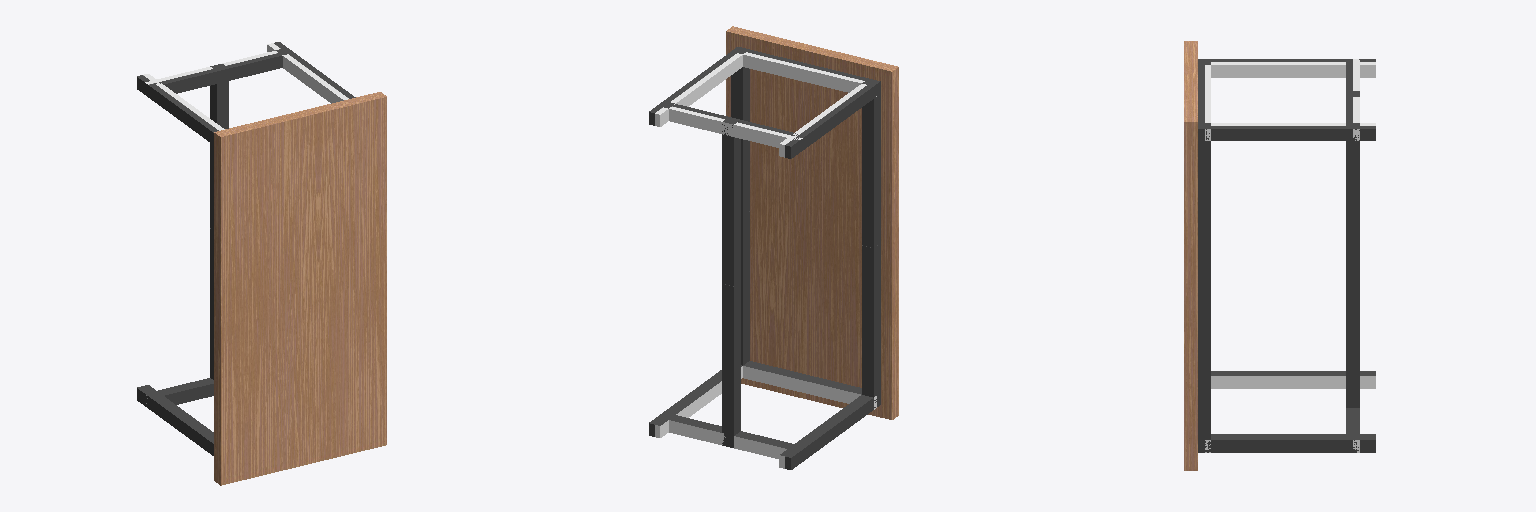
3 renders of one model, left to right at view 1: azimuth 30°, elevation 25°; view 2: azimuth 150°, elevation 25°; view 3: azimuth 270°, elevation 25°, orthographic.
Visible parts, largest first — view 1: Cube.001, Cube.004, Cube.002, Cube.006, Cube.008; view 2: Cube.001, Cube.003, Cube.004, Cube.006, Cube.002, Cube.008, Cube.007; view 3: Cube.001, Cube.004, Cube.003, Cube.007, Cube.002, Cube.008, Cube.006.
Part boxes in pixels (bbox=[...]): Cube.001: bbox=[214, 92, 386, 485]; Cube.004: bbox=[145, 48, 293, 409]; Cube.002: bbox=[137, 74, 224, 144]; Cube.006: bbox=[137, 385, 213, 455]; Cube.008: bbox=[267, 42, 355, 103]; Cube.001: bbox=[726, 26, 898, 419]; Cube.003: bbox=[731, 47, 880, 409]; Cube.004: bbox=[657, 101, 805, 458]; Cube.006: bbox=[779, 395, 880, 469]; Cube.002: bbox=[779, 81, 880, 158]; Cube.008: bbox=[649, 52, 742, 126]; Cube.007: bbox=[649, 365, 742, 437]; Cube.001: bbox=[1184, 41, 1197, 470]; Cube.004: bbox=[1346, 59, 1359, 452]; Cube.003: bbox=[1198, 59, 1210, 452]; Cube.007: bbox=[1198, 434, 1375, 452]; Cube.002: bbox=[1211, 59, 1375, 77]; Cube.008: bbox=[1198, 123, 1375, 140]; Cube.006: bbox=[1211, 371, 1375, 388].
Size of the model in its own units: 0.7 by 1.4 by 0.7.
Materials: 1 (1 with a texture image).